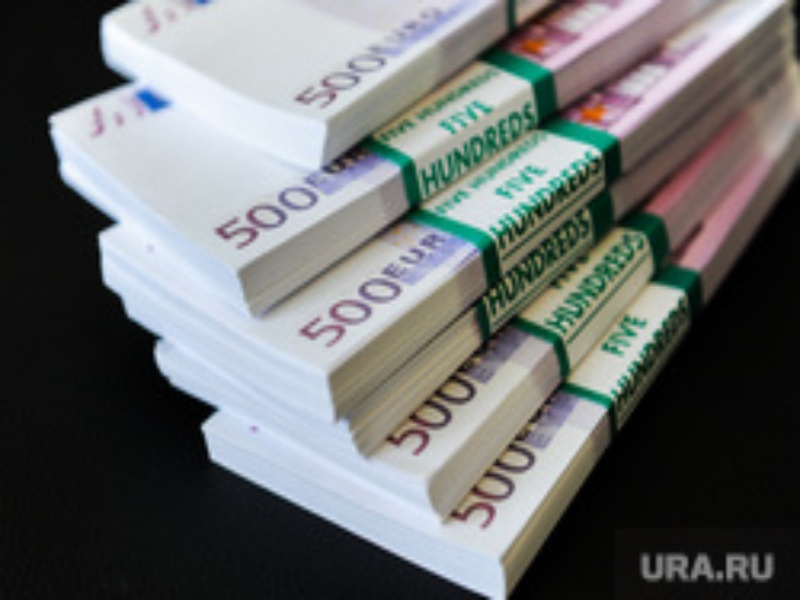cash: (48, 1, 800, 600)
